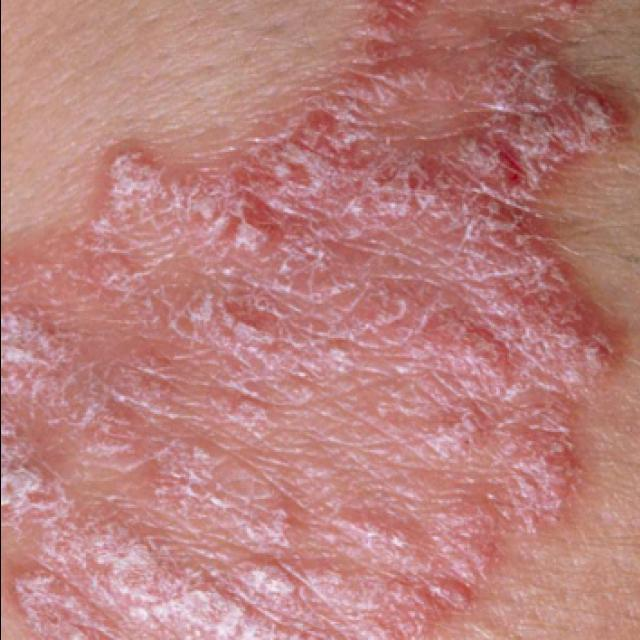Psoriasis: (1, 0, 634, 640)
